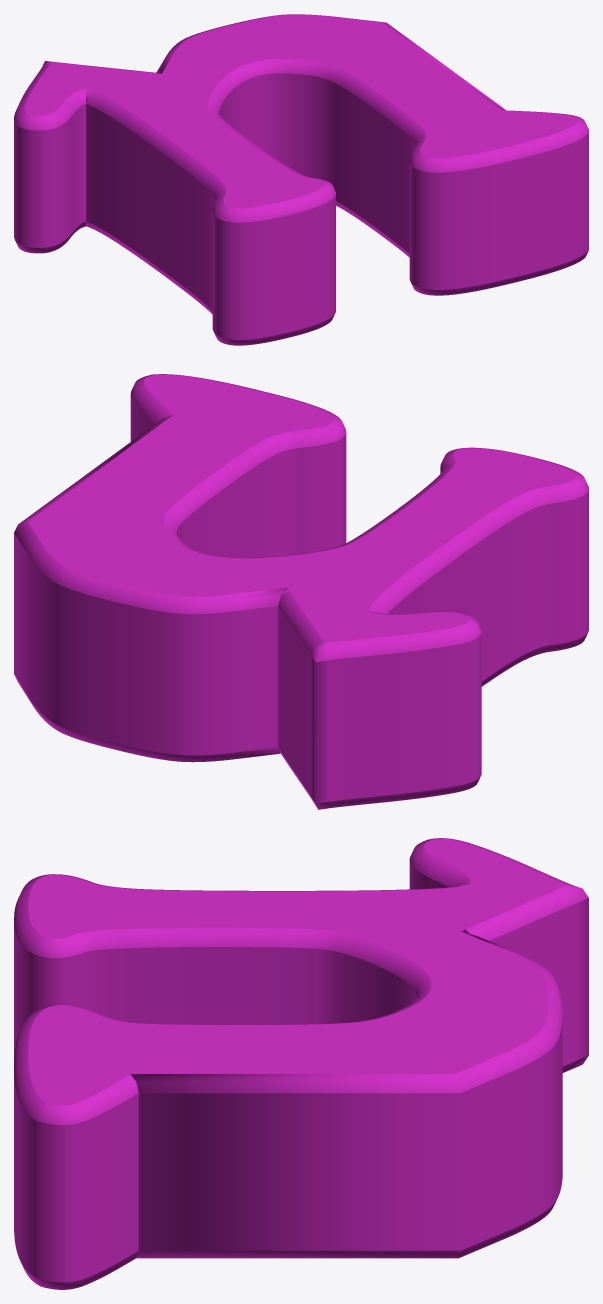
File: Letter_u_Small.fbx
3 views of the same model, one above another, from view 1: azimuth 30°, elevation 25°; view 2: azimuth 150°, elevation 25°; view 3: azimuth 270°, elevation 25° (orthographic). The views are drawn at different scales.
Visible parts, largest first — view 1: Letter_u; view 2: Letter_u; view 3: Letter_u.
Boxes of the visible parts, x1,y1,x2,y2 form: Letter_u: (14,14,588,345); Letter_u: (14,374,588,809); Letter_u: (14,838,588,1289).
Size of the model in its own units: 0.4567 by 0.14 by 0.3971.
